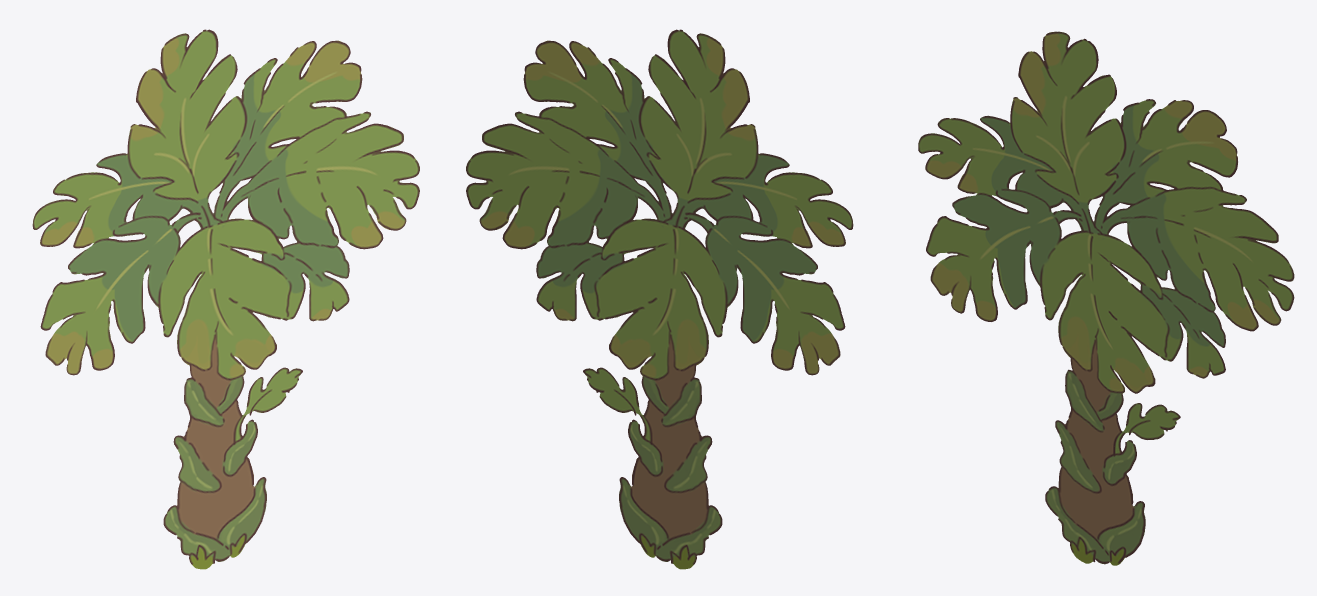
The model's file is Mesh_Home_B_RF_2.fbx.
3 renders of one model, left to right at view 1: azimuth 30°, elevation 25°; view 2: azimuth 150°, elevation 25°; view 3: azimuth 330°, elevation 25°, orthographic. The views are drawn at different scales.
Parts seen in each view (by area): view 1: Mesh_Home_B_RF_2; view 2: Mesh_Home_B_RF_2; view 3: Mesh_Home_B_RF_2.
Part boxes in pixels (x1,y1,x2,y2): Mesh_Home_B_RF_2: (32,29,419,569); Mesh_Home_B_RF_2: (466,29,853,569); Mesh_Home_B_RF_2: (918,31,1294,565).
Size of the model in its own units: 77.89 by 100 by 0.
